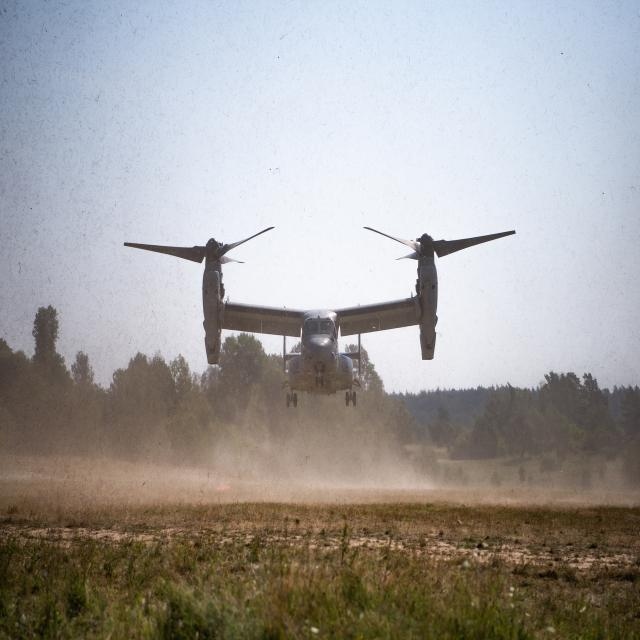MIL_Plane: (123, 227, 516, 407)
